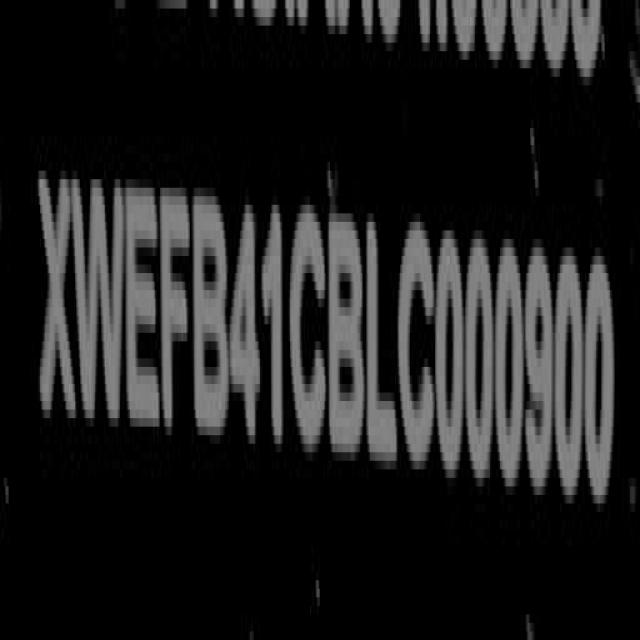0: (586, 263, 616, 513), (437, 218, 465, 485), (556, 252, 585, 506), (497, 239, 525, 495), (467, 231, 494, 492)
1: (262, 192, 286, 459)
4: (230, 195, 259, 457)
9: (525, 244, 553, 501)
B: (329, 205, 365, 472), (196, 188, 230, 455)
C: (291, 197, 329, 463), (400, 218, 437, 480)
E: (128, 180, 162, 445)
F: (162, 180, 193, 454)
L: (368, 213, 398, 475)
W: (74, 166, 127, 441)
X: (36, 160, 74, 438)
